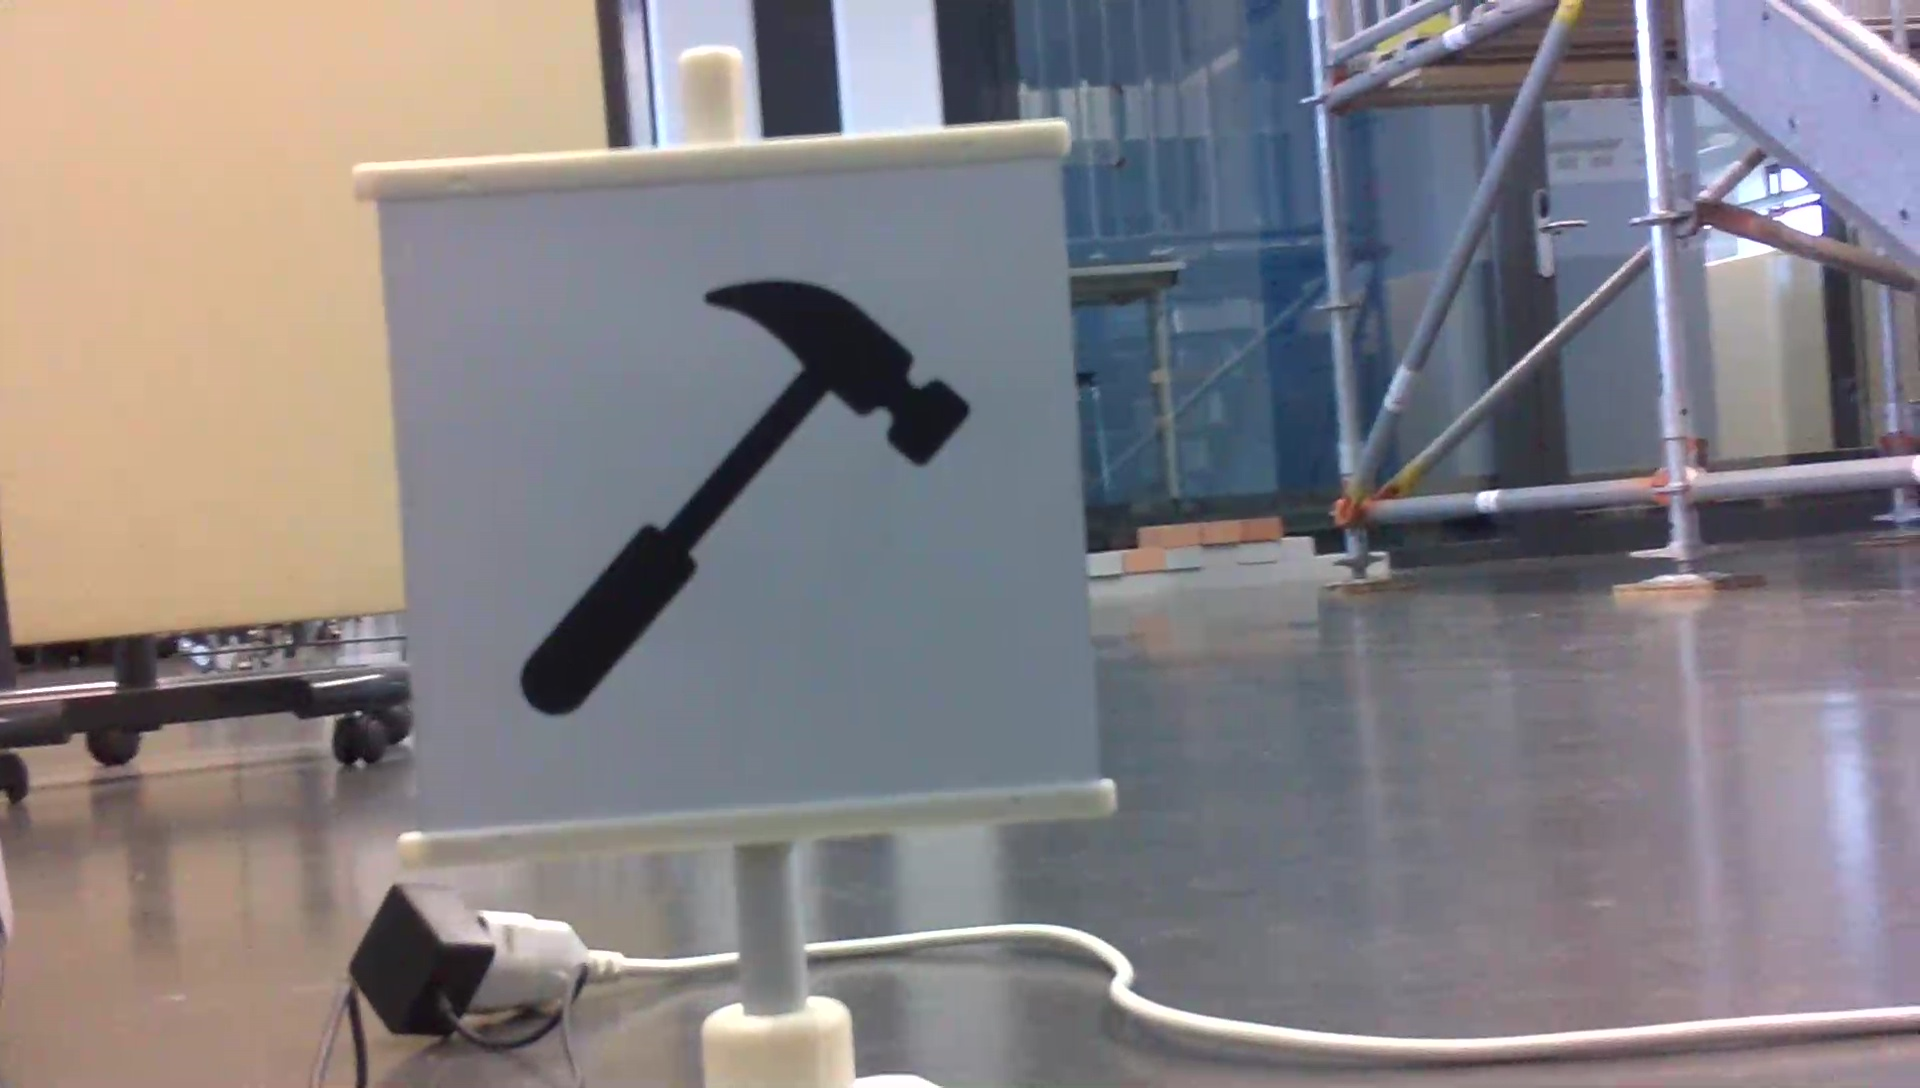hammer: (508, 273, 977, 727)
